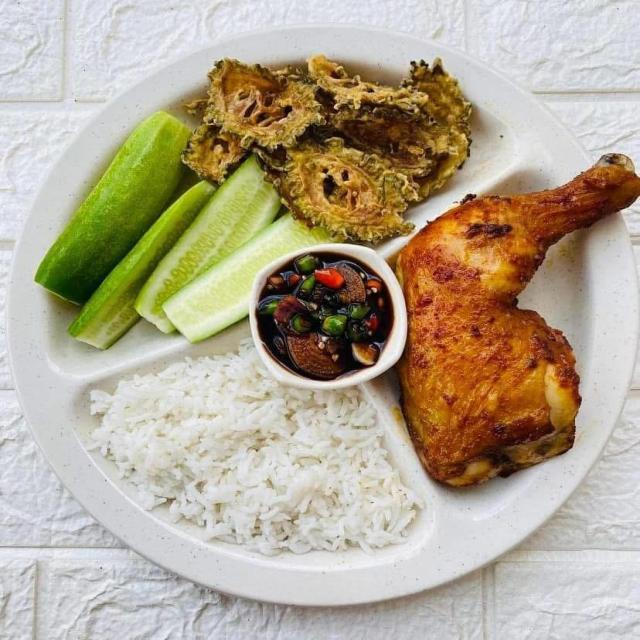Chicken: (392, 152, 639, 492)
Plate: (11, 74, 634, 600), (230, 29, 589, 223)
Rice: (87, 346, 428, 563)
Vegetables: (34, 56, 476, 352)
